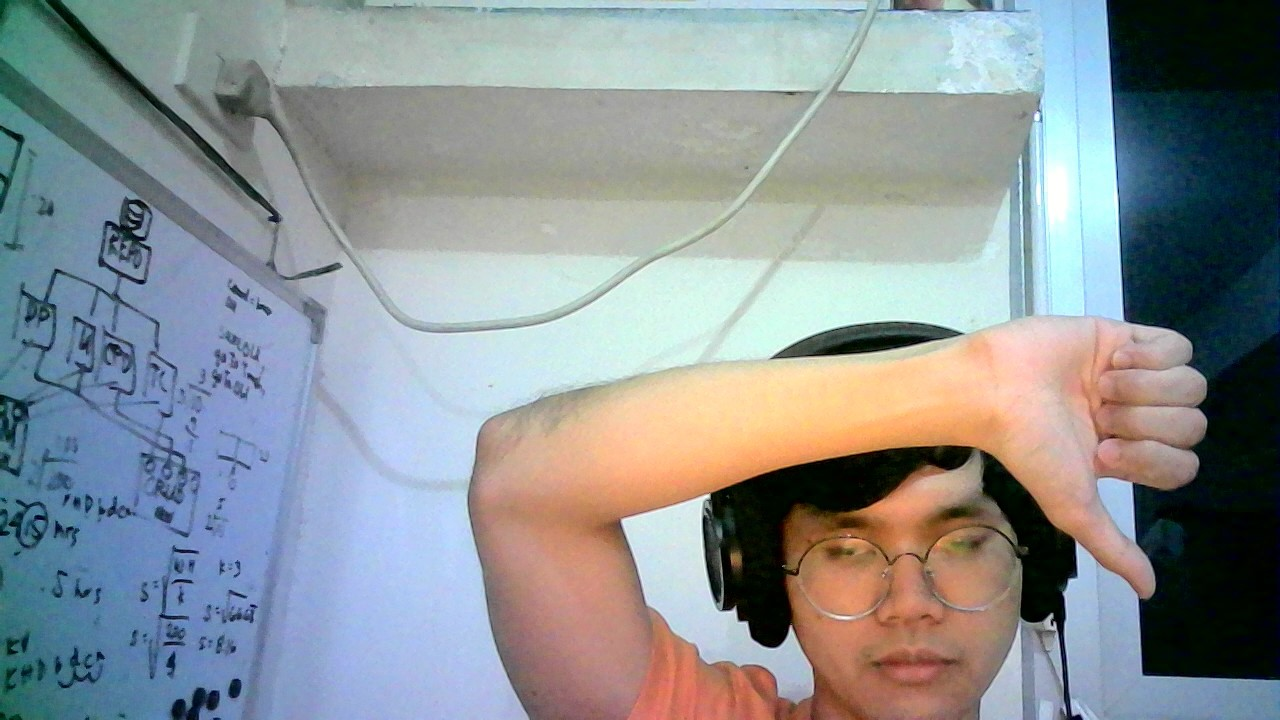thumbs_down: (952, 312, 1208, 601)
